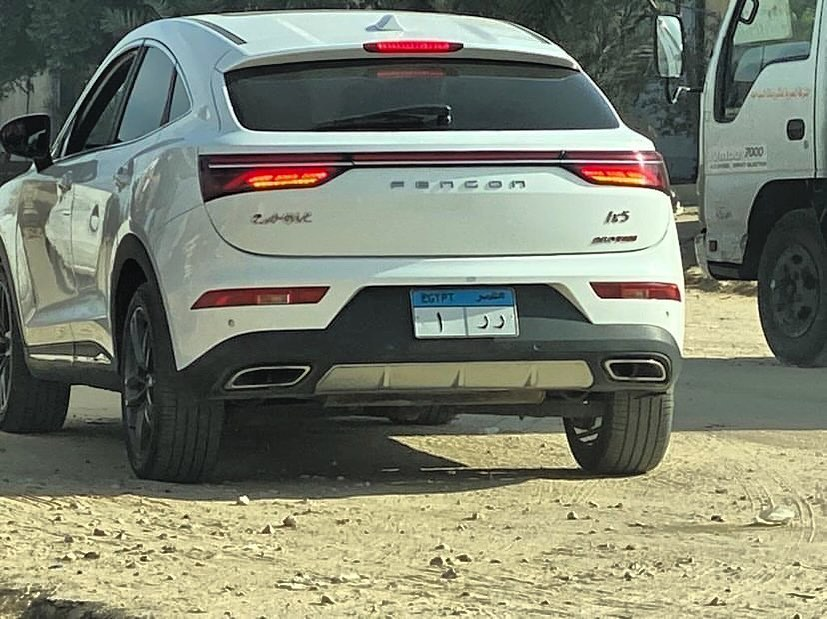carpl: (417, 288, 518, 334)
